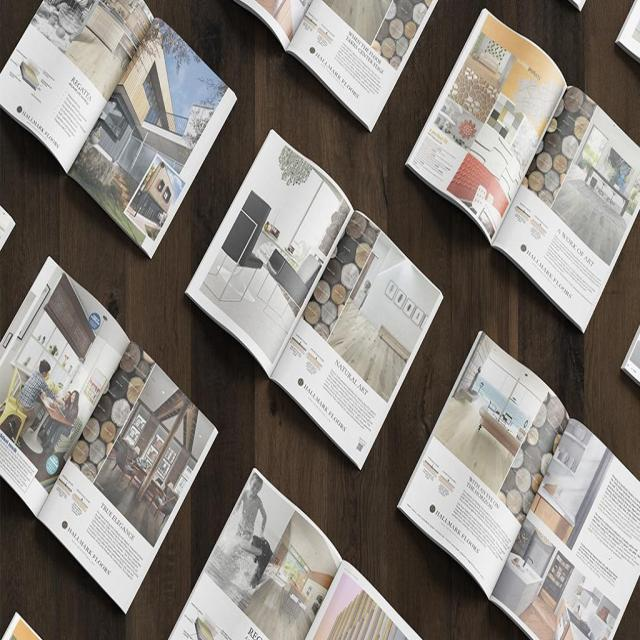paper: (185, 123, 445, 471), (0, 254, 222, 615), (404, 9, 640, 333), (397, 329, 640, 639), (0, 0, 241, 265), (167, 465, 426, 640), (231, 0, 440, 137)
